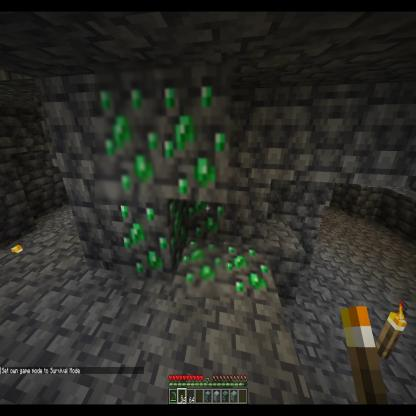emerald ore: (158, 55, 236, 203), (95, 62, 162, 205), (124, 197, 186, 288), (171, 235, 228, 297), (224, 241, 278, 300), (183, 199, 226, 244)
